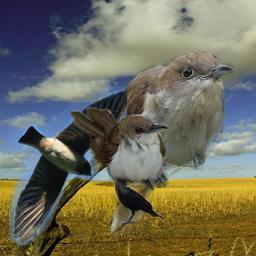Crow: (114, 174, 164, 224)
Cuckoo: (104, 49, 234, 235), (70, 107, 170, 196)
Swallow: (9, 86, 127, 245)
